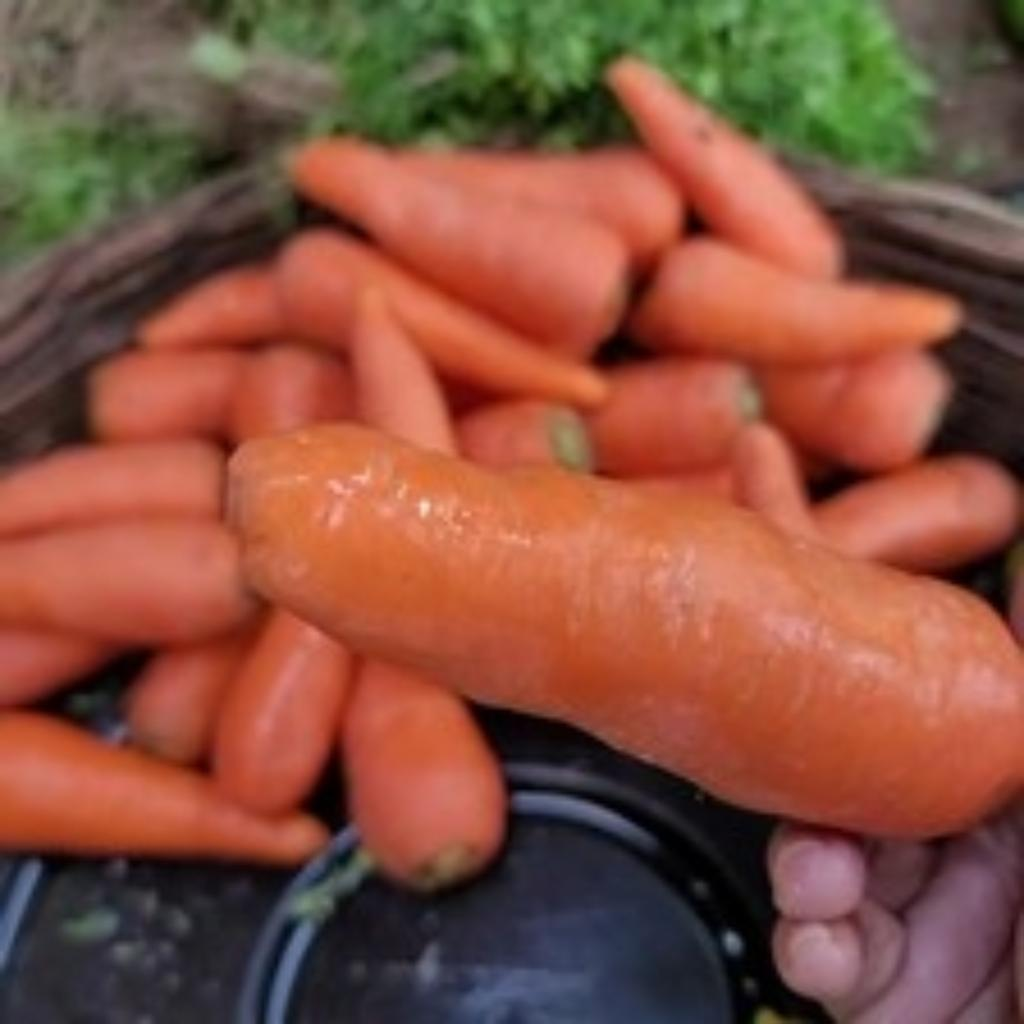carrot: (0, 55, 1015, 873), (228, 424, 1024, 835), (224, 421, 1015, 827), (18, 640, 146, 741), (279, 416, 453, 457)
